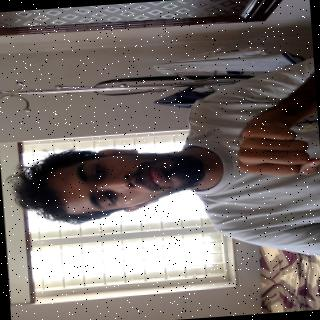Yes: (212, 97, 318, 196)
